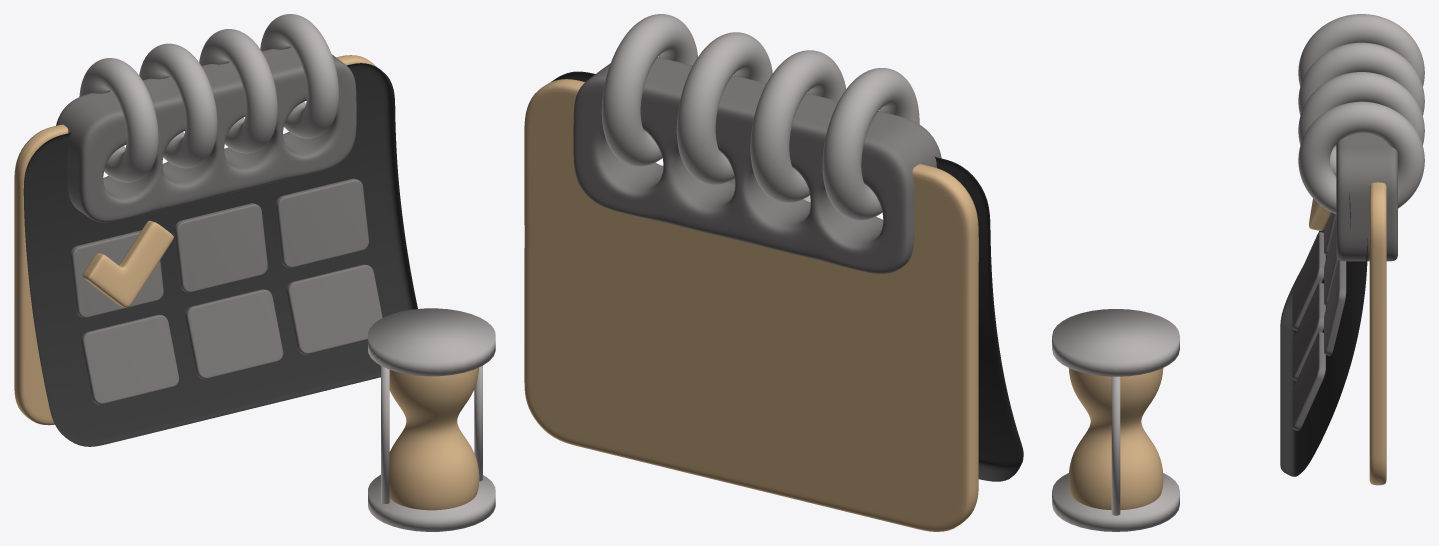
File: scheduled-for-later-3d-animated-icon-146241428997.glb
3 renders of one model, left to right at view 1: azimuth 30°, elevation 25°; view 2: azimuth 150°, elevation 25°; view 3: azimuth 270°, elevation 25°, orthographic. The views are drawn at different scales.
Visible parts, largest first — view 1: Page 1, Lock, Rings, Pillars.001, Glass.001, Page 2, Checkmark; view 2: Page 2, Lock, Rings, Page 1; view 3: Rings, Page 1, Pillars.001, Glass.001, Lock, Page 2, Checkmark.
Part boxes in pixels (x1,y1,x2,y2): Page 1: (23, 63, 417, 446); Lock: (56, 47, 356, 222); Rings: (79, 14, 338, 182); Pillars.001: (368, 308, 495, 531); Glass.001: (389, 367, 479, 510); Page 2: (14, 55, 376, 425); Checkmark: (82, 220, 173, 307); Page 2: (524, 79, 978, 531); Lock: (573, 57, 941, 274); Rings: (601, 14, 919, 220); Page 1: (551, 71, 1023, 481); Rings: (1298, 14, 1424, 213); Page 1: (1280, 192, 1367, 476); Pillars.001: (1052, 309, 1179, 531); Glass.001: (1068, 368, 1163, 510); Lock: (1336, 133, 1397, 261); Page 2: (1369, 182, 1386, 485); Checkmark: (1309, 198, 1331, 230).
Size of the model in its own units: 2.2 by 2.28 by 1.94.
